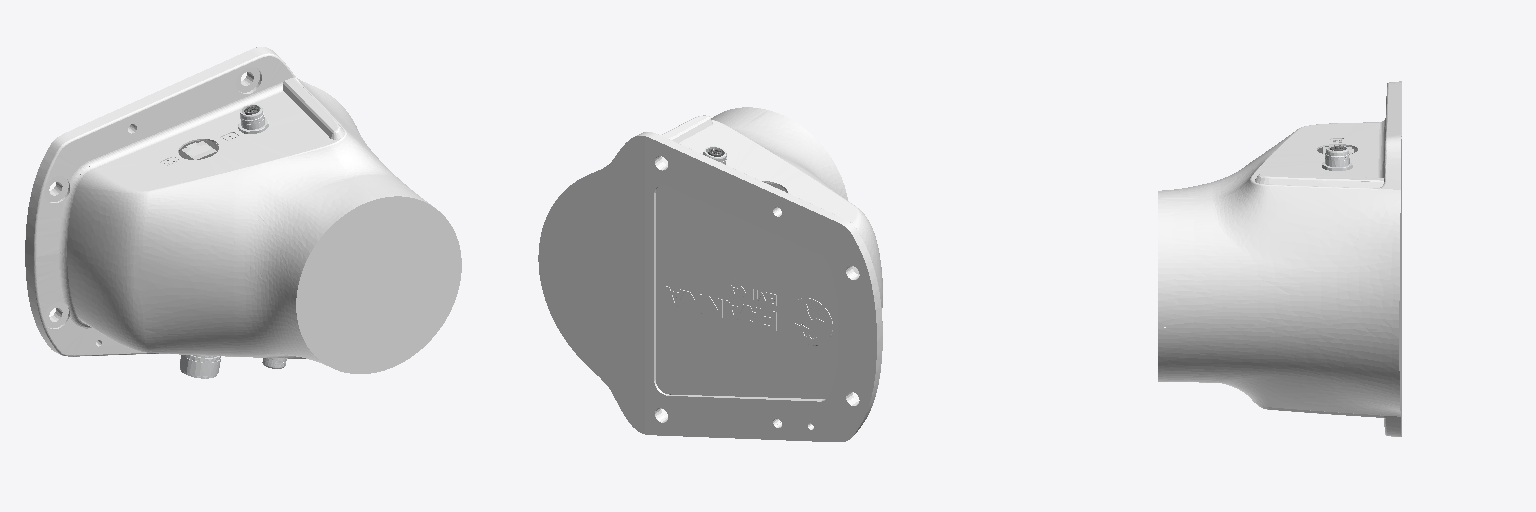
The picture shows the model from 3 angles: view 1: azimuth 30°, elevation 25°; view 2: azimuth 150°, elevation 25°; view 3: azimuth 270°, elevation 25°; orthographic projection.
Parts seen in each view (by area): view 1: node11; view 2: node11; view 3: node11.
Part boxes in pixels (left/top/right/bottom): node11: left=25, top=47, right=461, bottom=378; node11: left=538, top=107, right=882, bottom=441; node11: left=1158, top=81, right=1401, bottom=436.
Size of the model in its own units: 0.2256 by 0.1892 by 0.14.
12 materials, 1 textured.